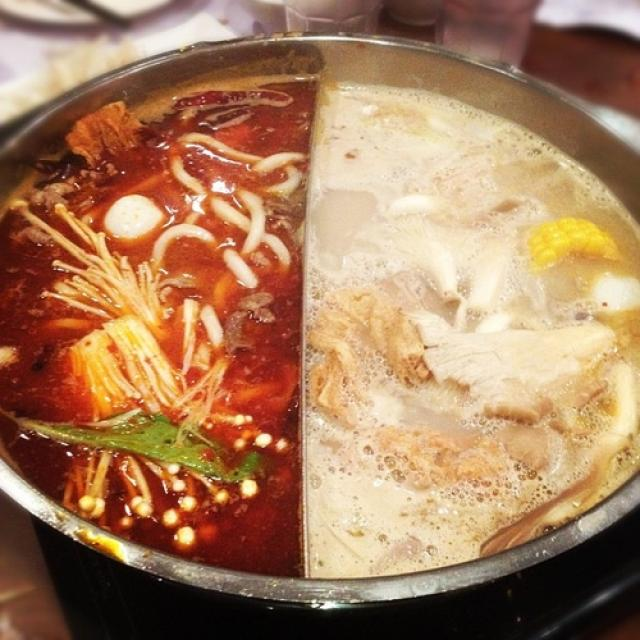汤锅炖物: (4, 26, 617, 602)
